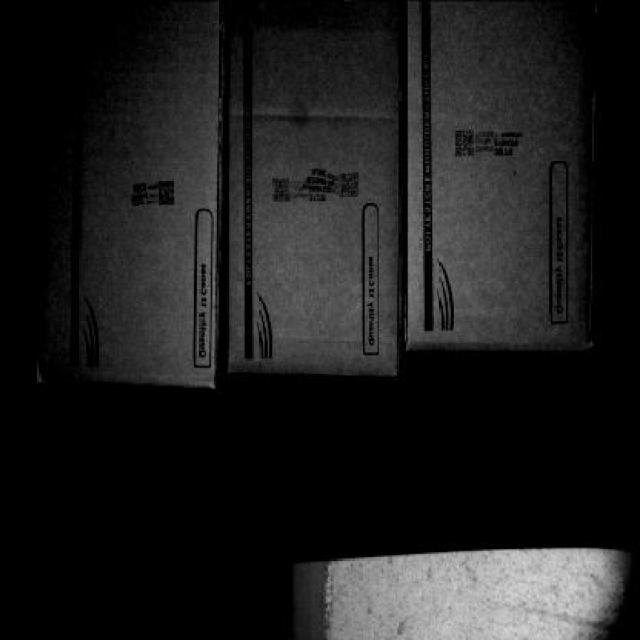cardboxes: (403, 0, 596, 352), (218, 6, 400, 371), (41, 8, 217, 378)
